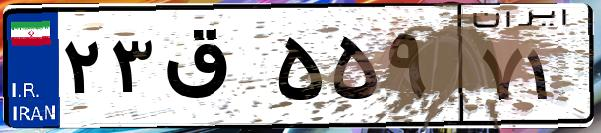1: (525, 38, 570, 115)
2: (57, 26, 110, 100)
3: (110, 28, 158, 98)
5: (270, 28, 330, 110), (330, 28, 385, 110)
7: (475, 38, 525, 113)
9: (385, 28, 445, 110)
ق: (158, 20, 270, 120)
